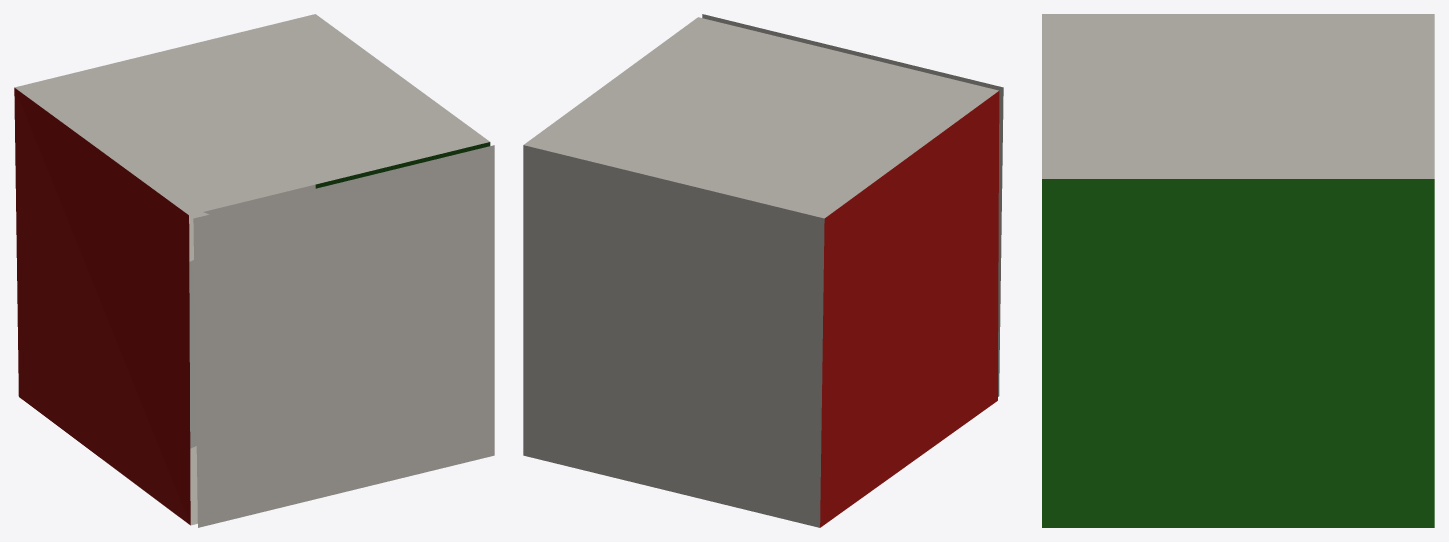
The model's file is CornellBox.obj.
The picture shows the model from 3 angles, left to right: view 1: azimuth 30°, elevation 25°; view 2: azimuth 150°, elevation 25°; view 3: azimuth 270°, elevation 25°; orthographic projection. The views are drawn at different scales.
Visible parts, largest first — view 1: frontWall, leftWall, ceiling, shortBox, rightWall, floor; view 2: backWall, leftWall, ceiling, frontWall; view 3: rightWall, ceiling.
Boxes of the visible parts, x1,y1,x2,y2 form: frontWall: (193, 145, 494, 527); leftWall: (14, 87, 190, 525); ceiling: (14, 14, 489, 215); shortBox: (189, 212, 208, 448); rightWall: (315, 142, 490, 188); floor: (190, 446, 197, 525); backWall: (523, 145, 824, 527); leftWall: (820, 91, 999, 527); ceiling: (524, 17, 998, 218); frontWall: (702, 14, 1003, 396); rightWall: (1042, 179, 1434, 527); ceiling: (1042, 14, 1434, 178).
Size of the model in its own units: 2.02 by 1.99 by 2.08.
